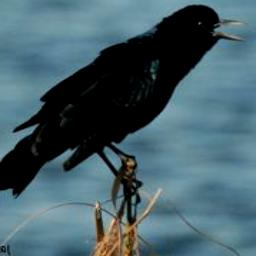Crow: (0, 4, 247, 204)
